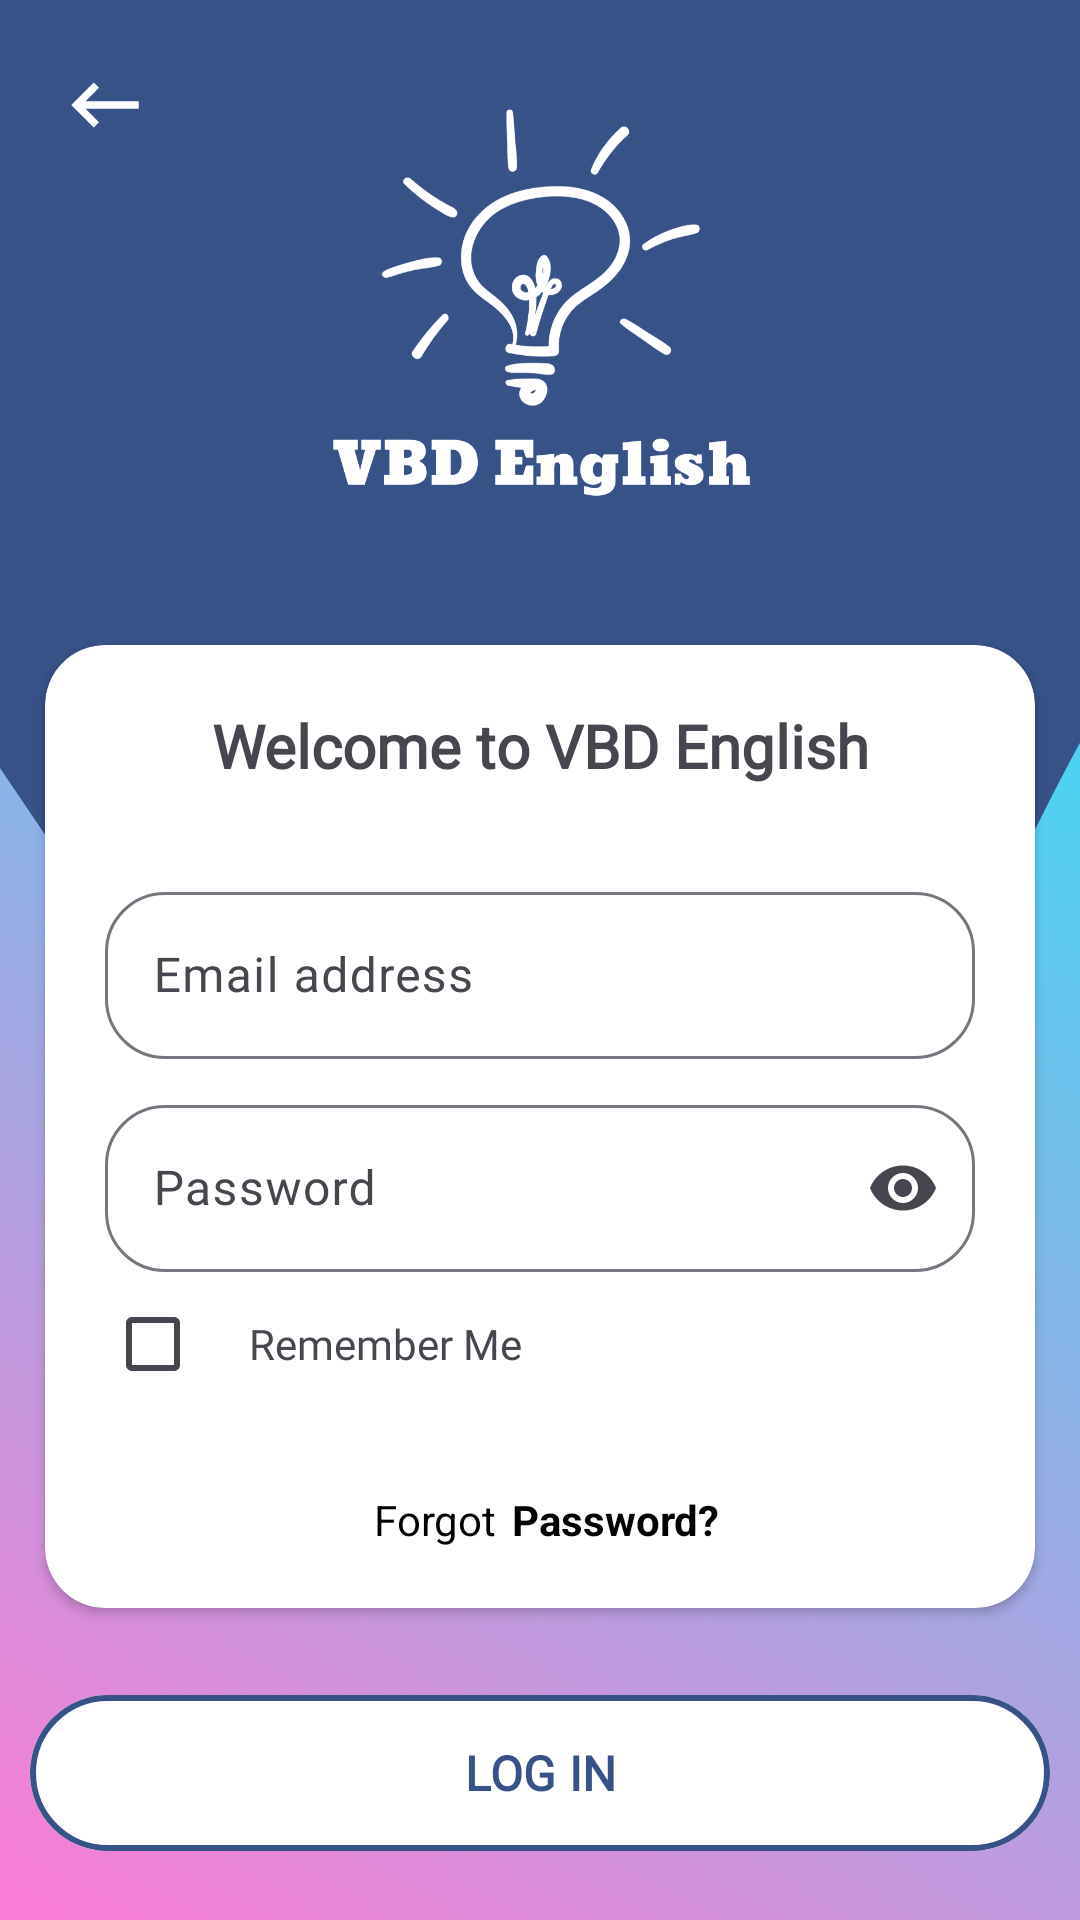

Screen size 1080 × 1920. Icon name, then its center in pixels as (x,y):
keyboard backspace: (105,105)
